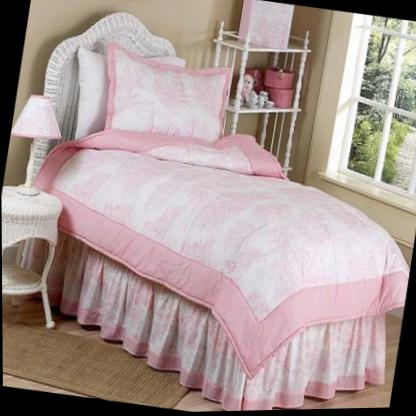Bed: (14, 13, 409, 412)
